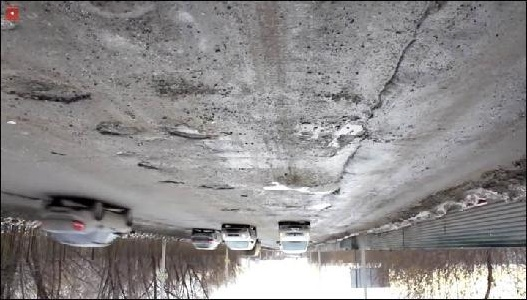pothole: (0, 79, 91, 106), (154, 77, 199, 99), (166, 124, 214, 144), (92, 117, 129, 140), (199, 180, 237, 194), (136, 160, 159, 174), (159, 180, 187, 188)
